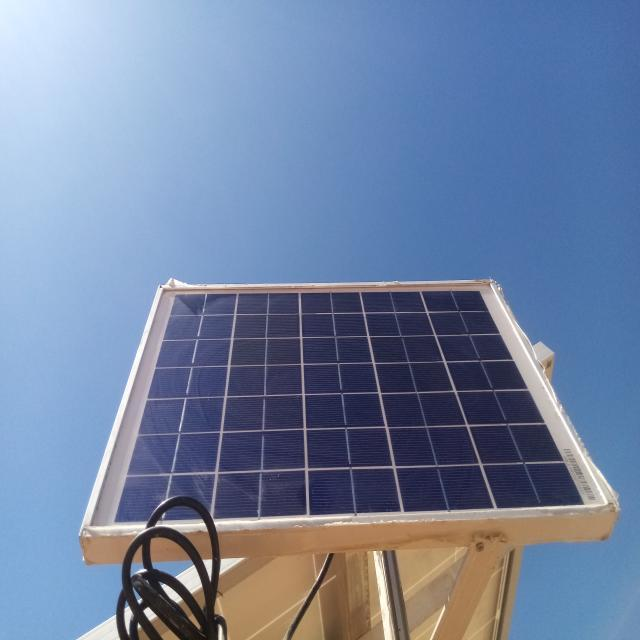Normal Solar Panel: (84, 282, 615, 531)
